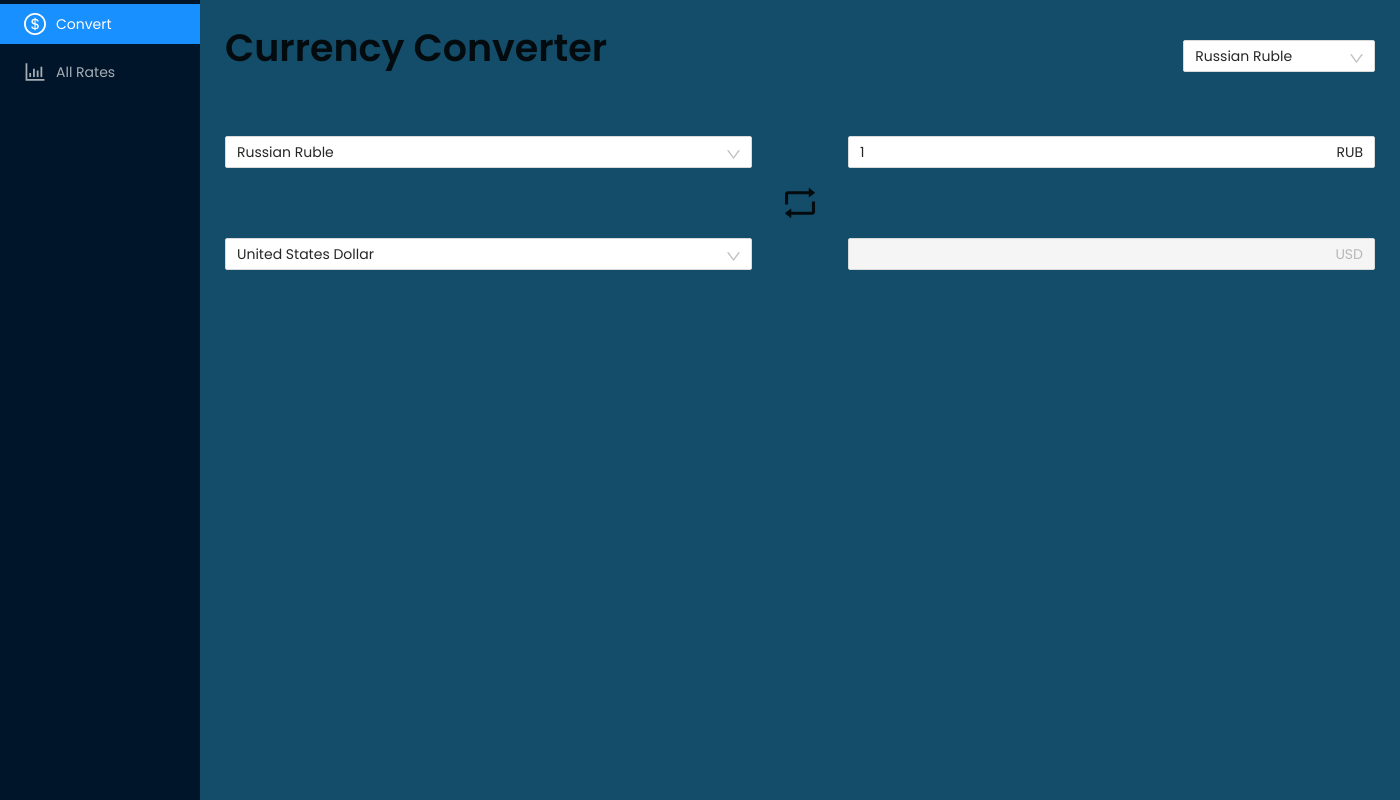
Test case: exchange rate app auto test › Convert Page
The image size is (1400, 800).
Expected: the heading "Currency Converter" is shown, x1=225 y1=21 x2=607 y2=74
Expected: the text "Russian Ruble" in the row of "Currency Converter" is shown, x1=1195 y1=46 x2=1292 y2=66
Click the element showing "Russian Ruble". click: (489, 152)
box: x1=225 y1=136 x2=752 y2=168
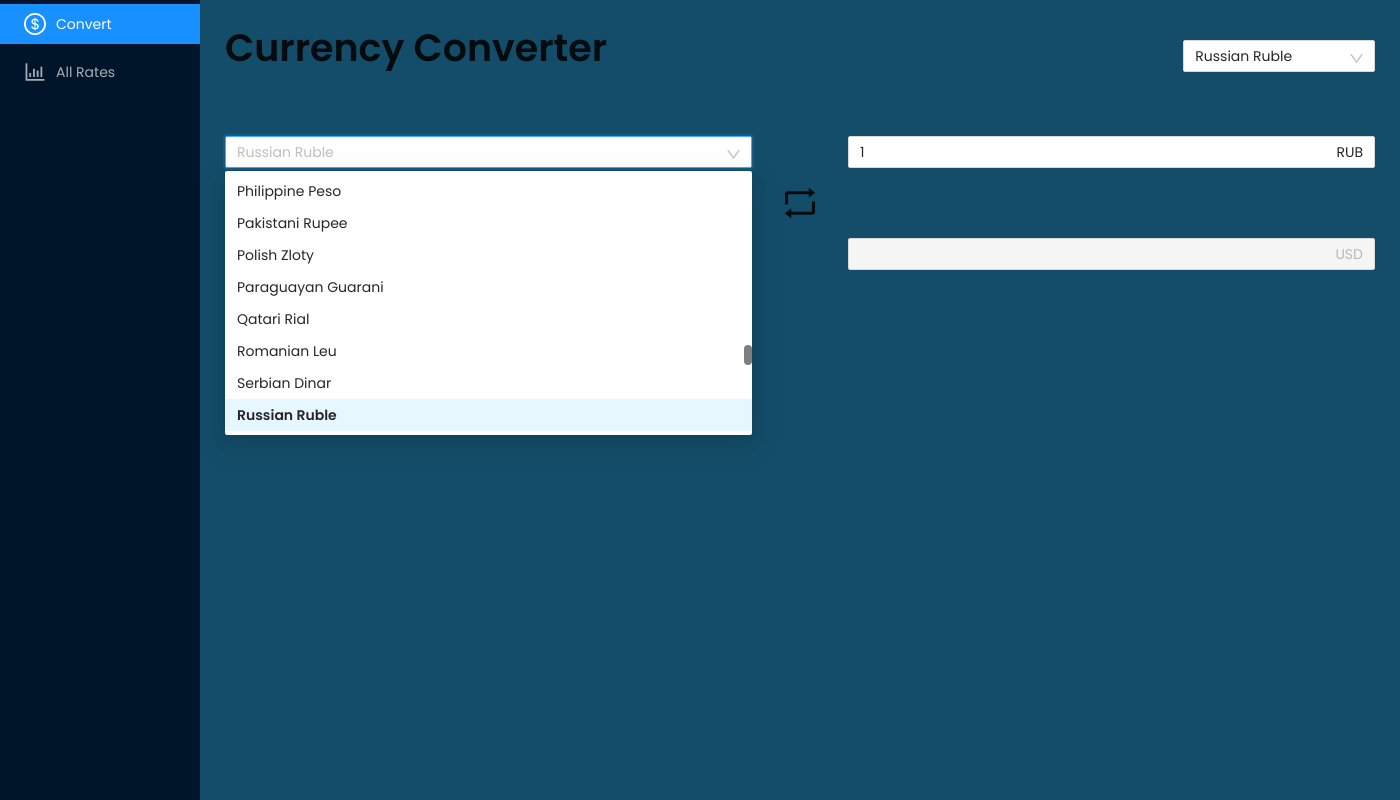
Click the text "Polish Zloty". click: (276, 255)
box: x1=237 y1=245 x2=314 y2=265
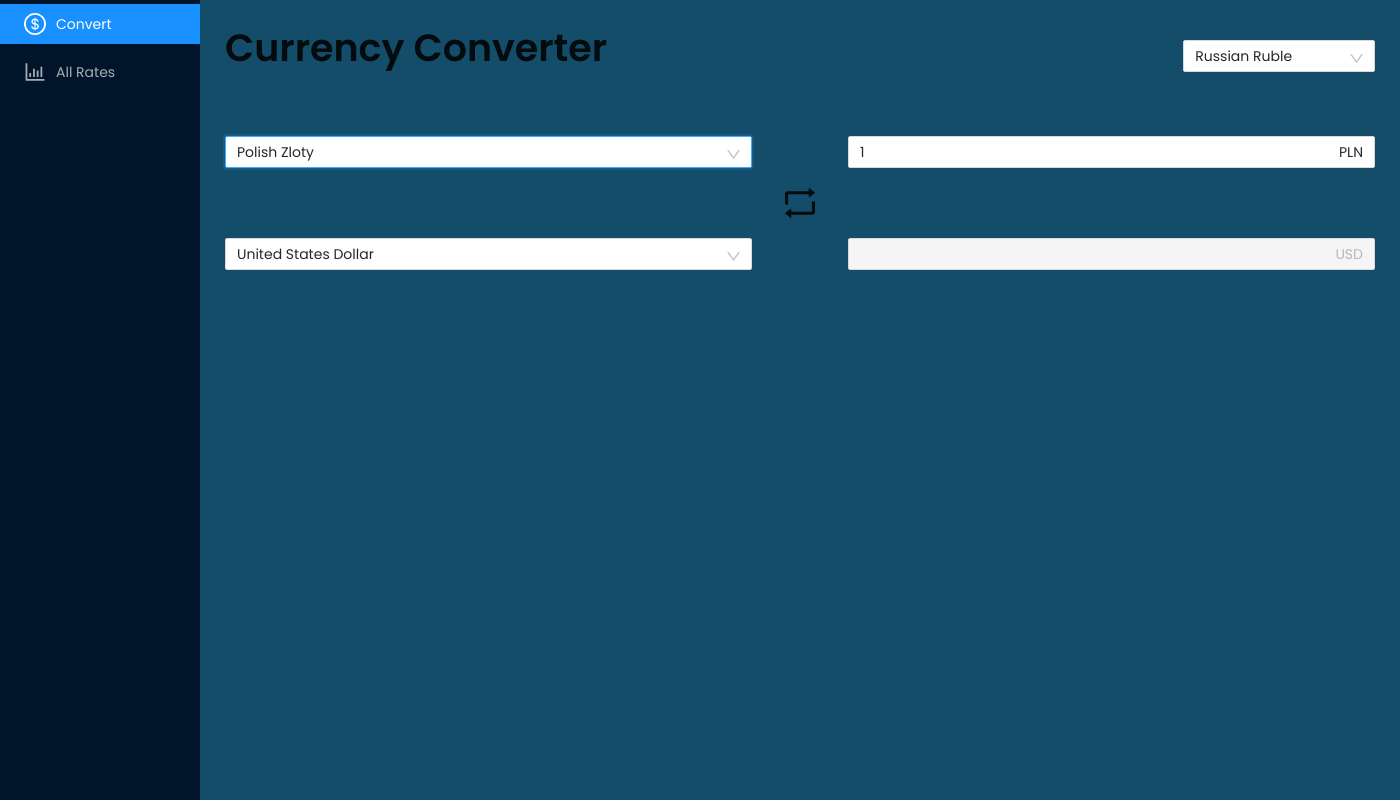
Replace the text in the number field next to "PLN" with "180". click: (1098, 152)
box: x1=860 y1=141 x2=1335 y2=163
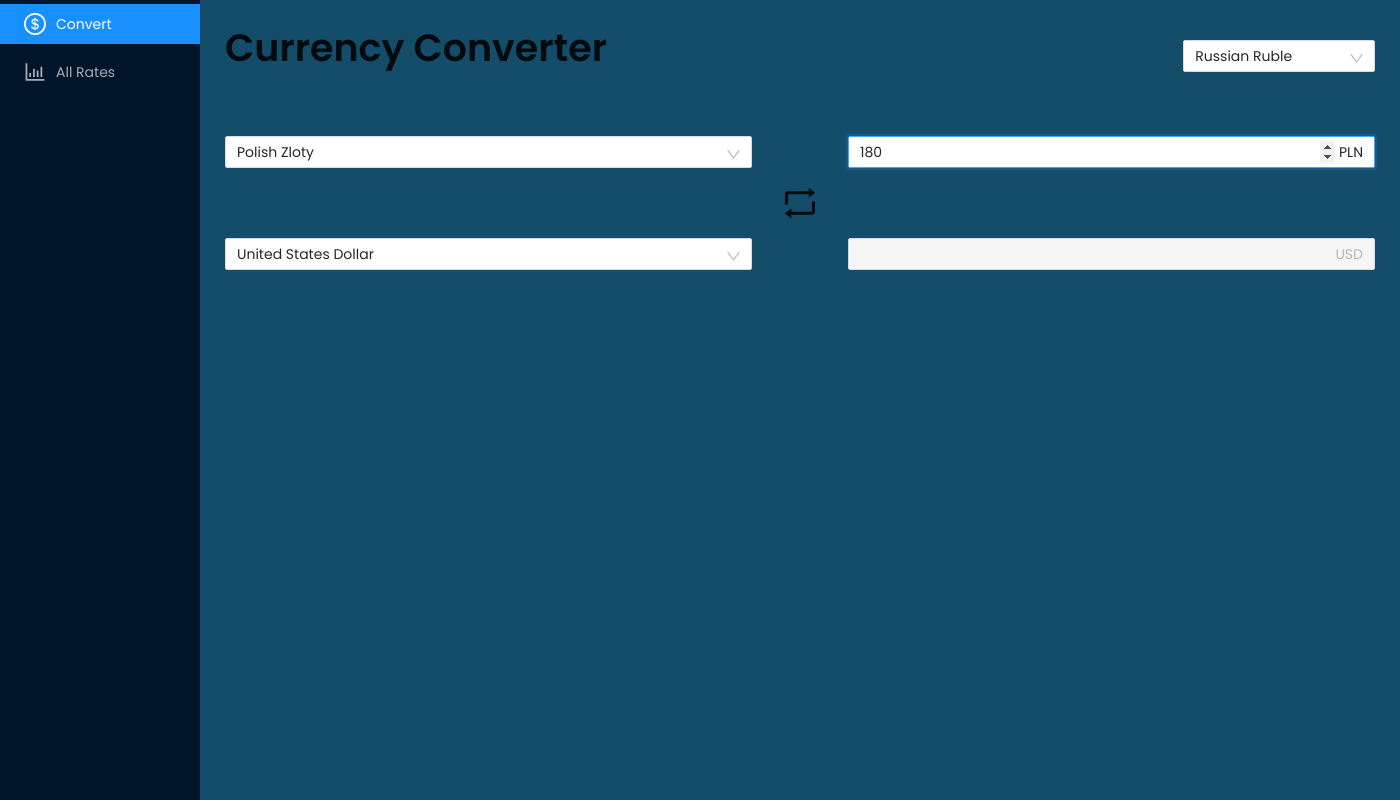
Click the element showing "United States Dollar". click: (489, 254)
box: x1=225 y1=238 x2=752 y2=270
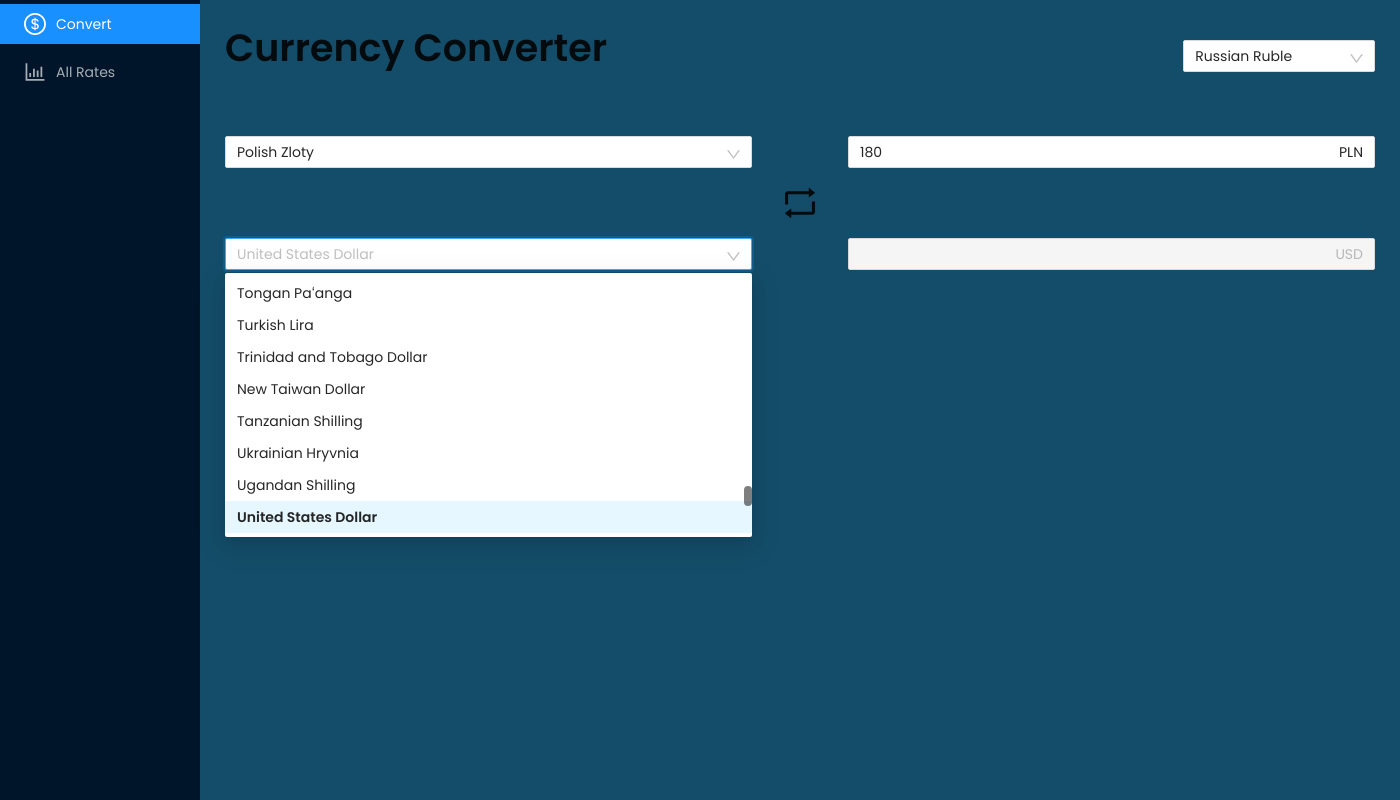
Click the text "Turkish Lira". click: (276, 325)
box: x1=237 y1=315 x2=314 y2=335
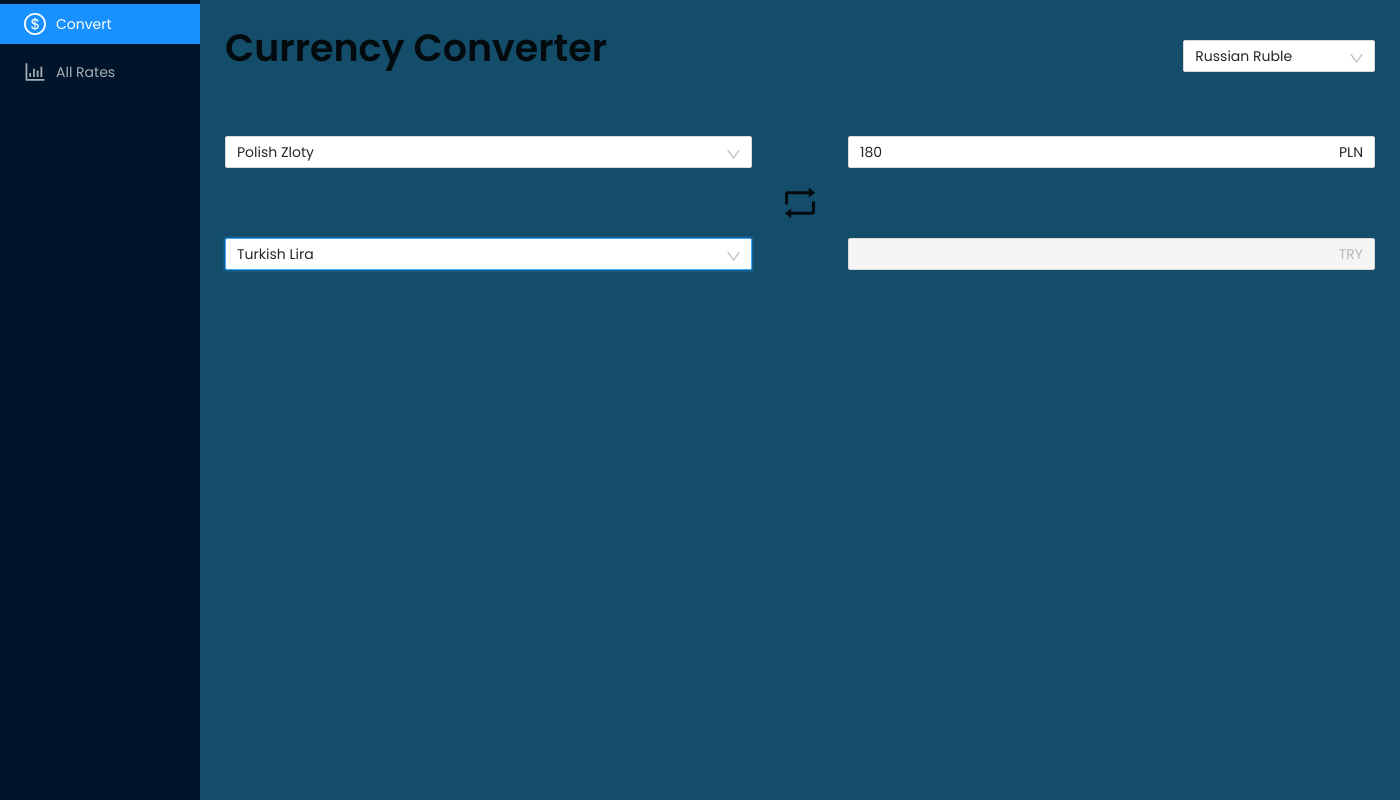
Now the text "PLN" is shown, box x1=1339 y1=141 x2=1363 y2=163
Now the text "TRY" is shown, box x1=1339 y1=243 x2=1363 y2=265
